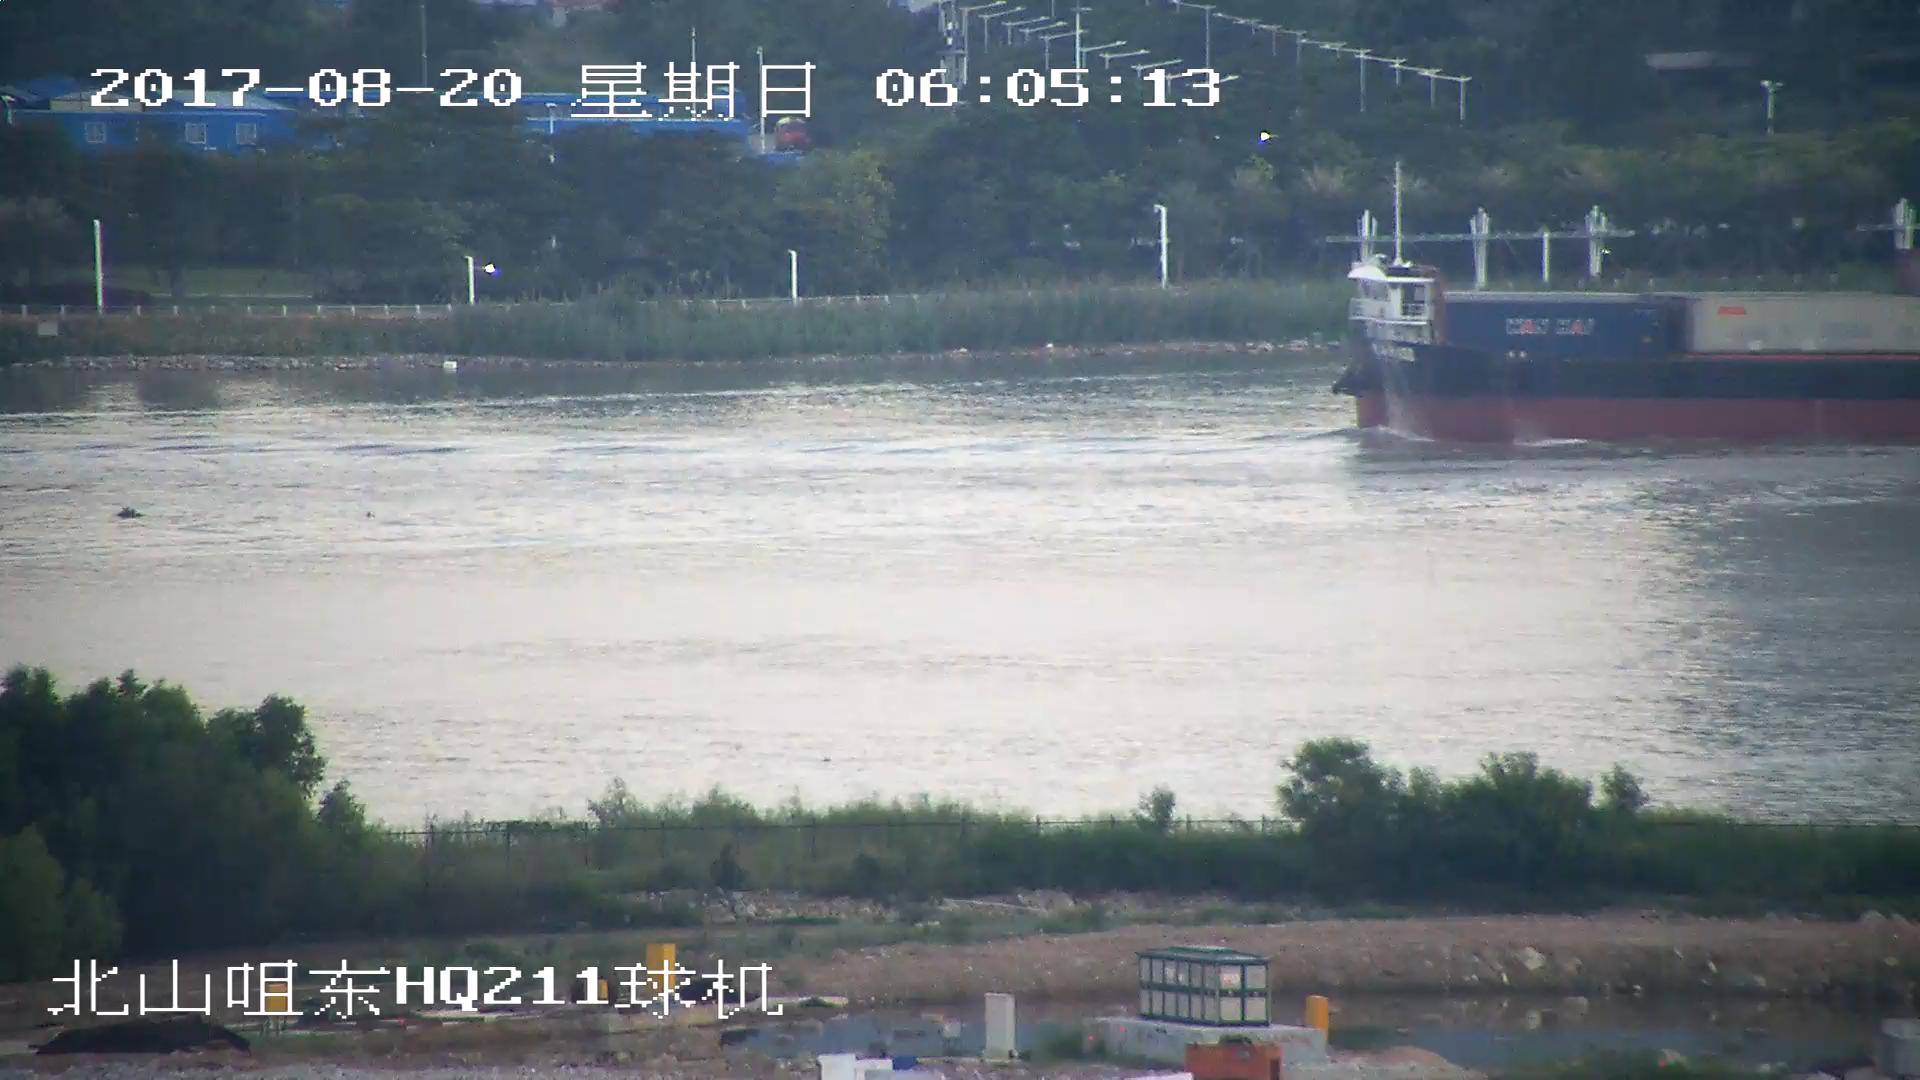container ship: (1329, 246, 1920, 449)
